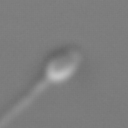normal: (1, 79, 45, 128)
